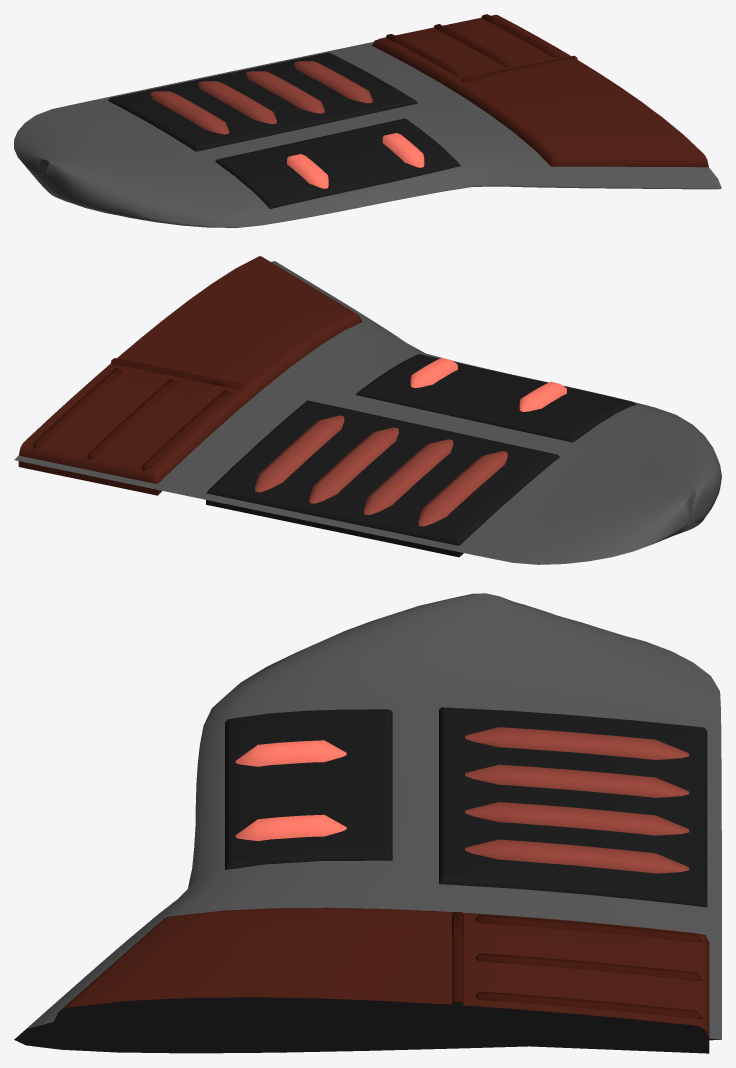
Rendered from redwing_237.glb.
3 views of the same model, one above another, from view 1: azimuth 30°, elevation 25°; view 2: azimuth 150°, elevation 25°; view 3: azimuth 270°, elevation 25° (orthographic). The views are drawn at different scales.
Visible parts, largest first — view 1: wing_l.001, panel_l.001, grille_l.001, lamp_box_l.001, grille_slat0_l.001, grille_slat1_l.001, grille_slat2_l.001, grille_slat3_l.001, lamp1_l.001, lamp0_l.001, panel_groove_l.001, panel_slot1_l.001 (+2 smaller); view 2: wing_l.001, panel_l.001, grille_l.001, lamp_box_l.001, grille_slat3_l.001, grille_slat2_l.001, grille_slat1_l.001, grille_slat0_l.001, panel_slot0_l.001, panel_slot1_l.001, panel_slot2_l.001, panel_groove_l.001 (+2 smaller); view 3: wing_l.001, panel_l.001, grille_l.001, lamp_box_l.001, grille_slat3_l.001, grille_slat0_l.001, grille_slat1_l.001, grille_slat2_l.001, lamp0_l.001, lamp1_l.001, panel_slot0_l.001, panel_slot2_l.001 (+2 smaller).
Boxes of the visible parts, left/top/right/bottom form: wing_l.001: left=14, top=42, right=721, bottom=227; panel_l.001: left=371, top=14, right=708, bottom=167; grille_l.001: left=108, top=52, right=417, bottom=151; lamp_box_l.001: left=215, top=118, right=460, bottom=208; grille_slat0_l.001: left=150, top=91, right=229, bottom=134; grille_slat1_l.001: left=198, top=81, right=276, bottom=124; grille_slat2_l.001: left=246, top=71, right=324, bottom=113; grille_slat3_l.001: left=294, top=61, right=372, bottom=103; lamp1_l.001: left=382, top=133, right=424, bottom=167; lamp0_l.001: left=287, top=154, right=328, bottom=188; panel_groove_l.001: left=461, top=55, right=577, bottom=82; panel_slot1_l.001: left=433, top=24, right=512, bottom=67; wing_l.001: left=14, top=261, right=721, bottom=564; panel_l.001: left=18, top=256, right=362, bottom=495; grille_l.001: left=206, top=400, right=559, bottom=557; lamp_box_l.001: left=355, top=354, right=635, bottom=442; grille_slat3_l.001: left=254, top=415, right=344, bottom=492; grille_slat2_l.001: left=309, top=427, right=398, bottom=503; grille_slat1_l.001: left=363, top=439, right=453, bottom=514; grille_slat0_l.001: left=418, top=451, right=507, bottom=526; panel_slot0_l.001: left=141, top=390, right=231, bottom=471; panel_slot1_l.001: left=87, top=379, right=176, bottom=460; panel_slot2_l.001: left=32, top=368, right=122, bottom=448; panel_groove_l.001: left=110, top=358, right=243, bottom=389; wing_l.001: left=14, top=593, right=721, bottom=1053; panel_l.001: left=54, top=907, right=709, bottom=1053; grille_l.001: left=439, top=707, right=707, bottom=907; lamp_box_l.001: left=225, top=709, right=392, bottom=869; grille_slat3_l.001: left=465, top=839, right=689, bottom=873; grille_slat0_l.001: left=465, top=727, right=689, bottom=759; grille_slat1_l.001: left=465, top=764, right=689, bottom=797; grille_slat2_l.001: left=465, top=802, right=689, bottom=835; lamp0_l.001: left=235, top=740, right=346, bottom=766; lamp1_l.001: left=235, top=814, right=346, bottom=840; panel_slot0_l.001: left=475, top=914, right=702, bottom=942; panel_slot2_l.001: left=475, top=991, right=702, bottom=1019.
Bounding box in the file's own units: 21.78 × 1.99 × 16.88.
